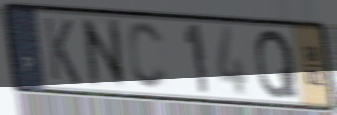1: (182, 21, 211, 97)
4: (216, 23, 253, 100)
C: (126, 20, 171, 93)
K: (41, 15, 83, 87)
N: (78, 16, 130, 91)
Q: (253, 27, 300, 101)
